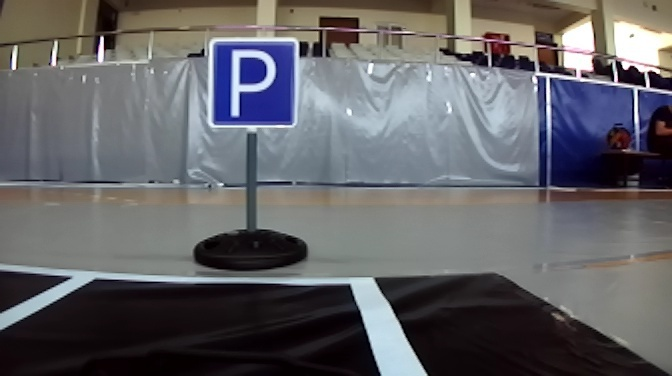park: (206, 37, 298, 130)
